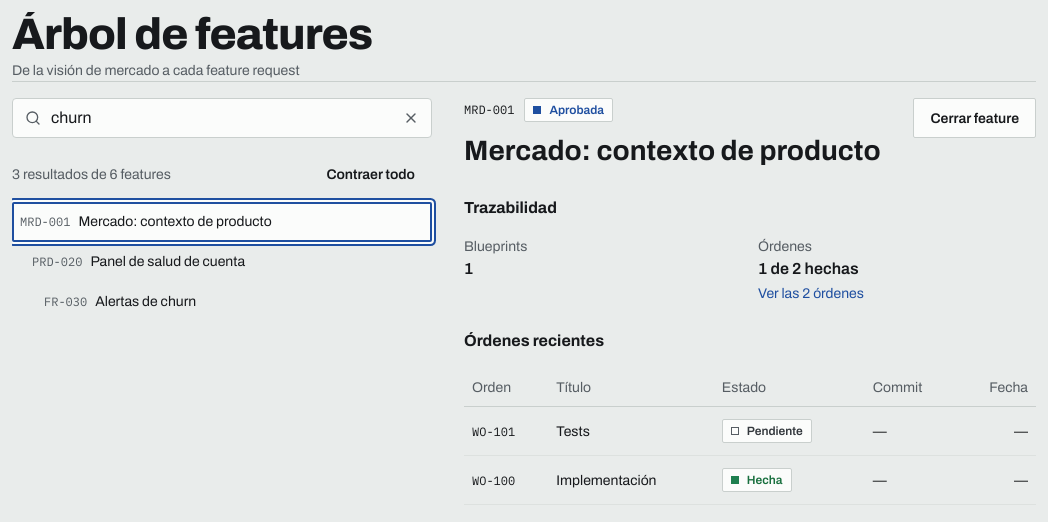
Test: ProjectGraph (árbol de features) › mantiene «N resultados» igual a las filas visibles al tipear sobre un filtro ya activo (rework WO-678)
Expected: the list item "FR-030 Alertas de churn" is shown, [44,294,196,309]
Step 1. Clear the search field named "Buscar por id o título" → {"x": 220, "y": 118}, box [49,105,391,131]
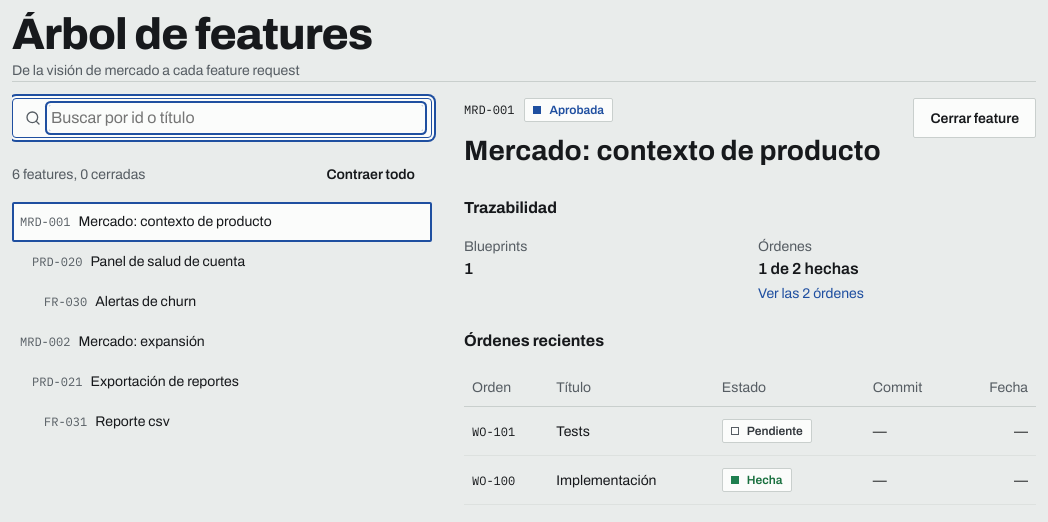
Step 2. Type "reporte" into the search field labelled "Buscar por id o título" → {"x": 236, "y": 118}, box [49,105,423,131]
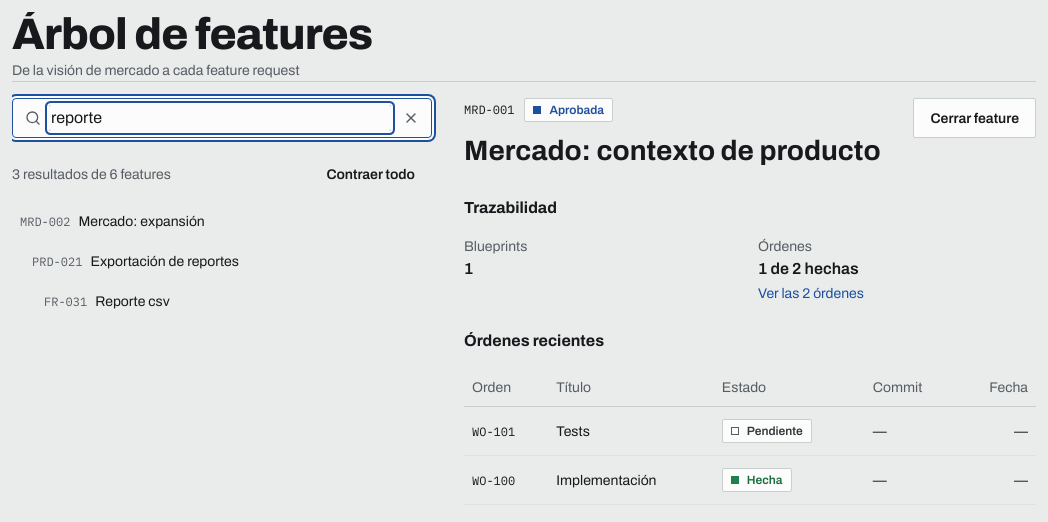
Expected: the list item "FR-031 Reporte csv" is shown, [44,294,170,309]
Expected: the number of list items is 3, [20,214,205,229]; [32,254,239,269]; [44,294,170,309]
Expected: the text "FR-030" is gone
